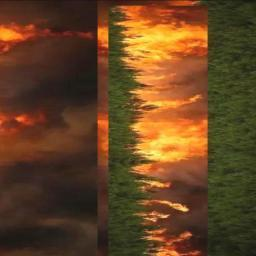Medium fire: (0, 0, 212, 256)
